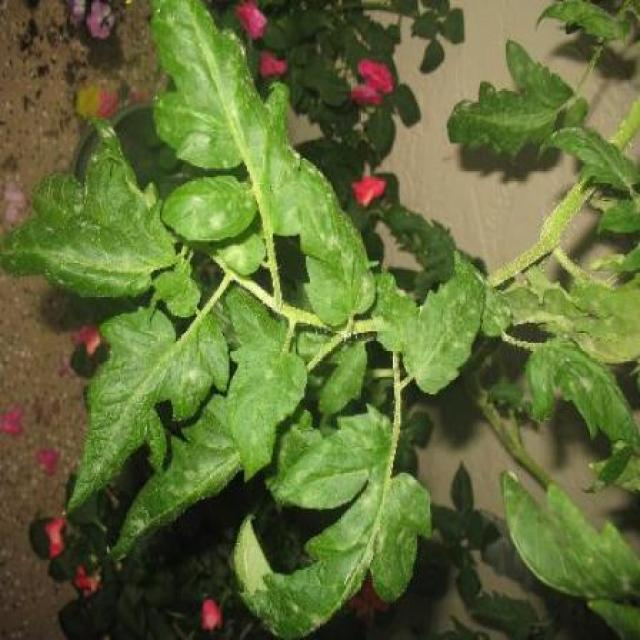Leaf Mold: (231, 411, 438, 640), (65, 292, 232, 517), (139, 2, 308, 179), (2, 128, 165, 299), (493, 474, 640, 619), (292, 157, 378, 323), (518, 334, 640, 447), (404, 261, 486, 399), (157, 174, 260, 244)
